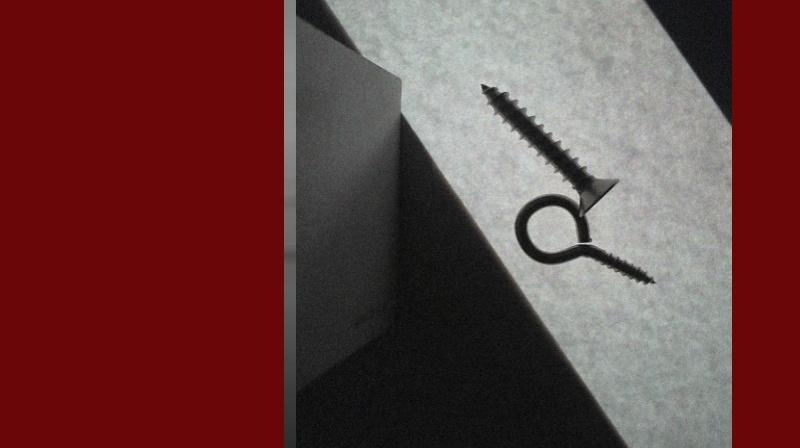O001: (511, 190, 660, 287)
S001: (481, 78, 618, 213)
